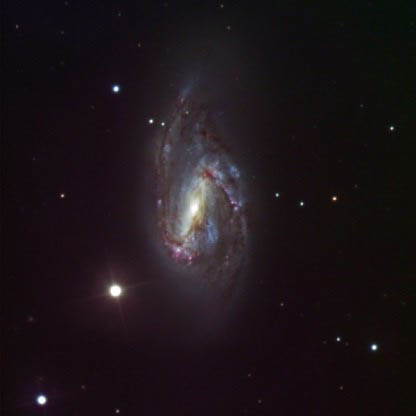Messier 66: (99, 72, 267, 340)
